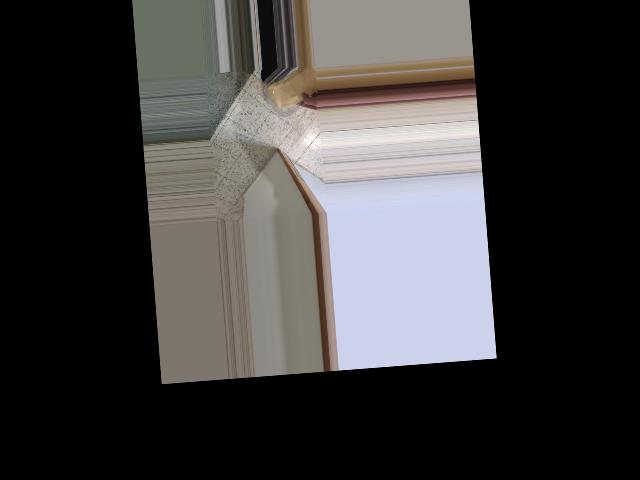cheese: (262, 64, 320, 117)
